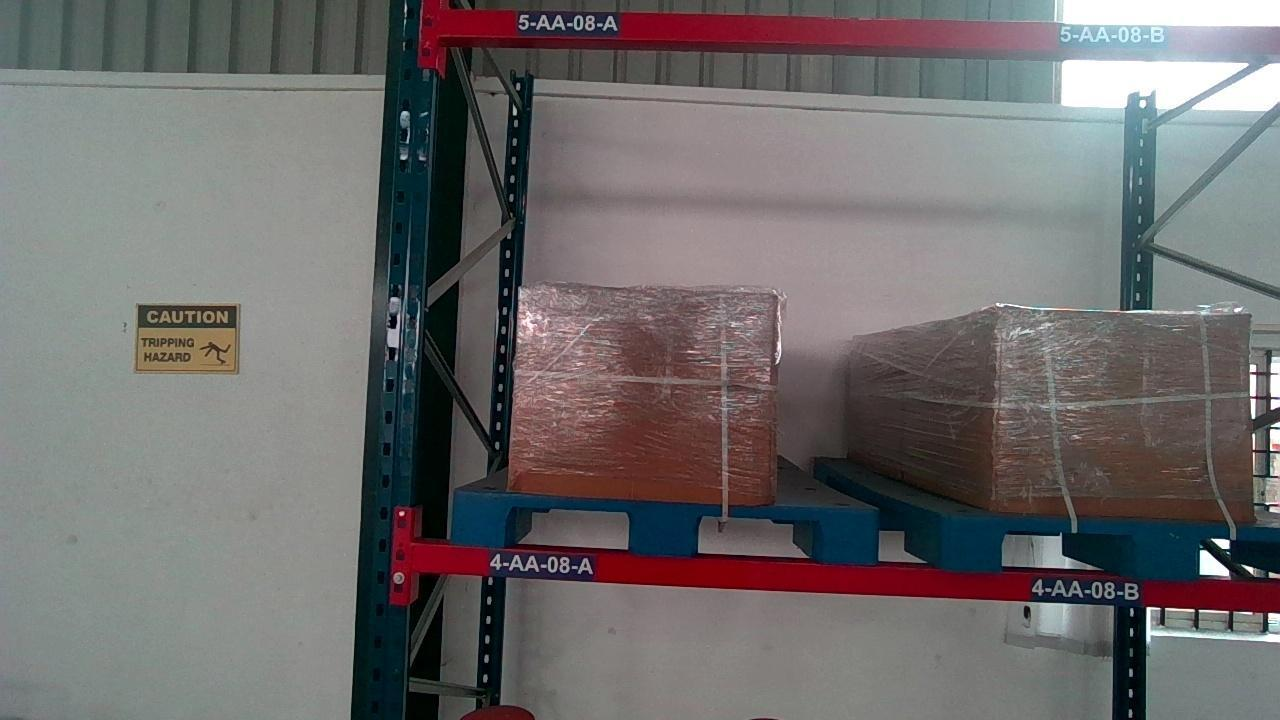h_rack: (419, 546, 1280, 614), (439, 7, 1280, 58)
small_pallet: (447, 493, 875, 556), (950, 517, 1280, 577)
